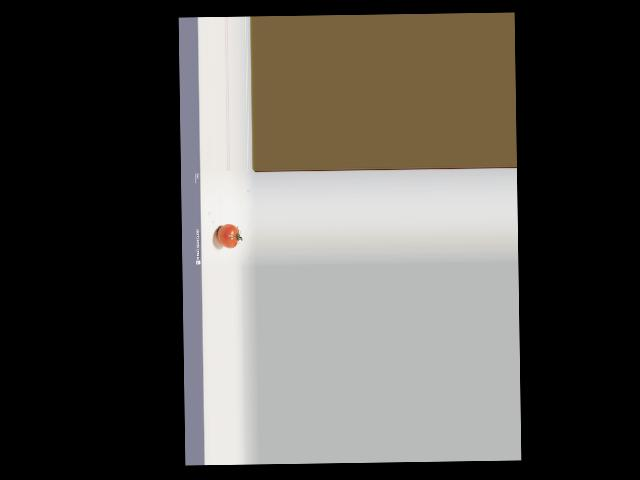tomato: (216, 223, 238, 247)
